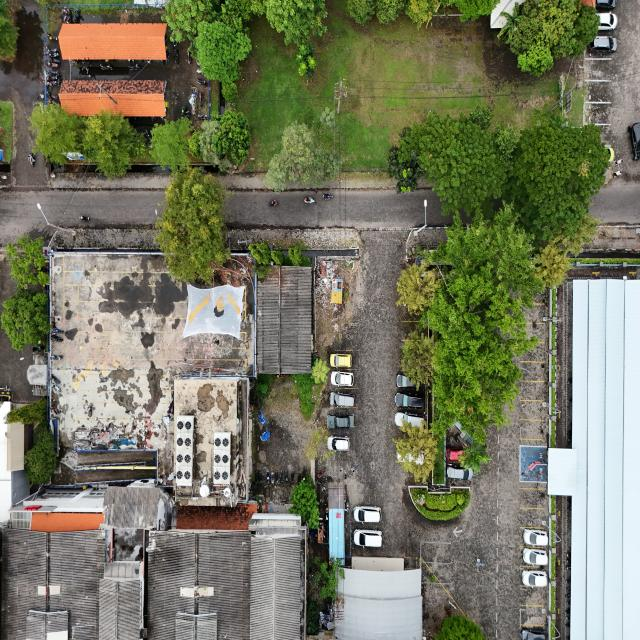Tree: (157, 172, 227, 288), (78, 95, 145, 185), (29, 97, 80, 171), (0, 287, 56, 351), (144, 109, 194, 173), (387, 419, 442, 476), (211, 102, 256, 168), (7, 230, 49, 299), (398, 329, 442, 387), (396, 260, 441, 315), (284, 473, 323, 525), (292, 41, 322, 85), (247, 230, 274, 272)
